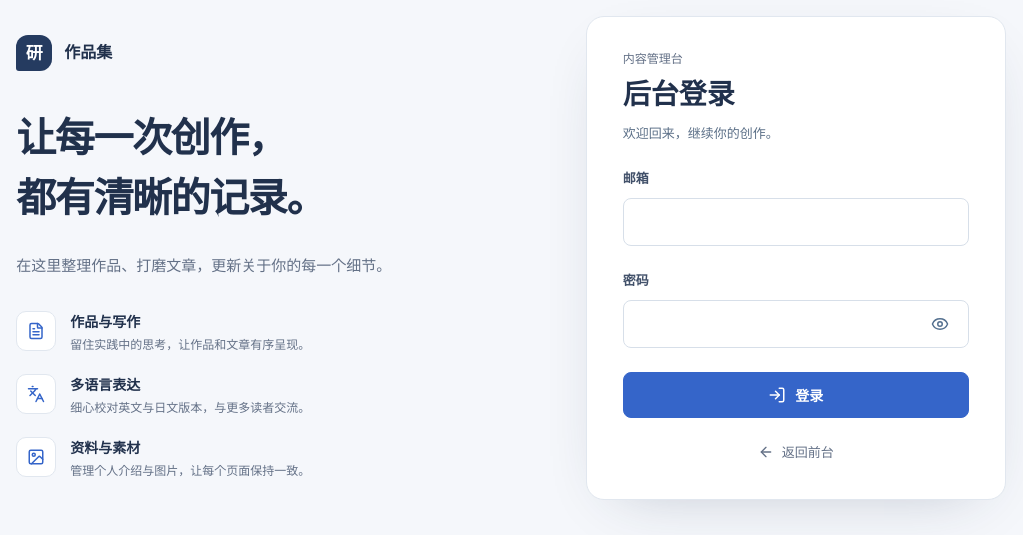
Test: LoginPage › toggles password visibility from the login form
The image size is (1023, 535).
Type "visible-secret" into the password field labelled "密码" at (796, 324), box x1=623 y1=300 x2=969 y2=348
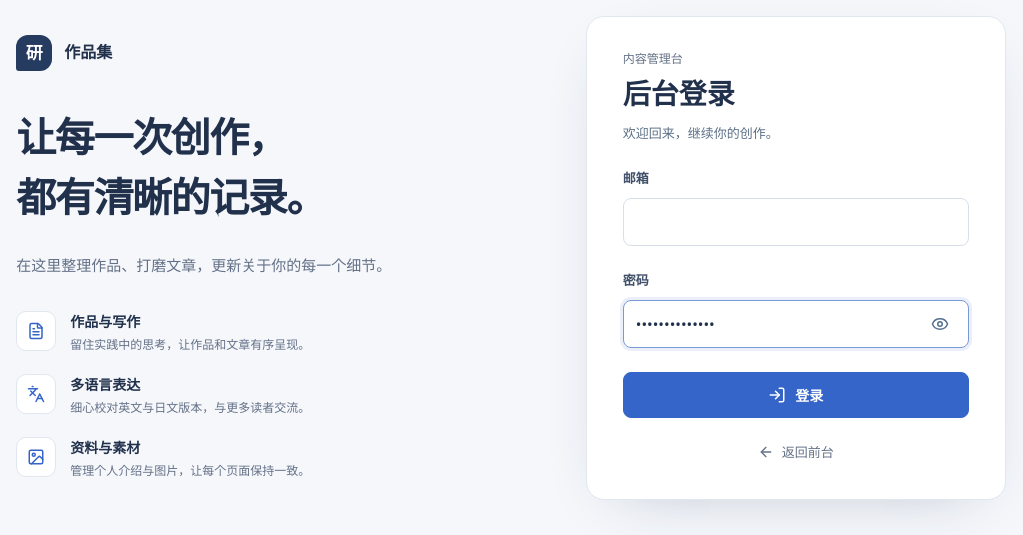
Click the button named "显示密码" at (940, 324), box x1=921 y1=305 x2=959 y2=343
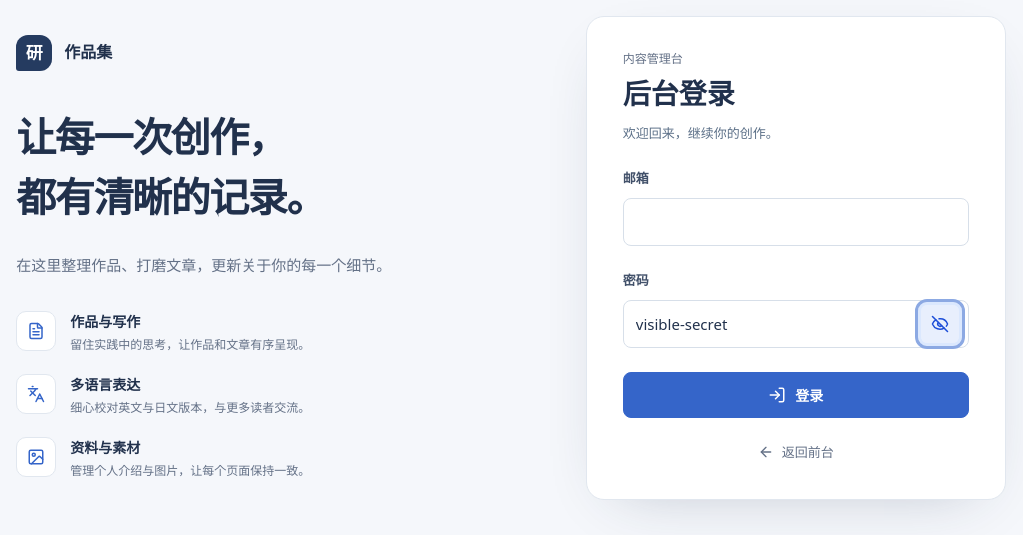
Expected: the field labelled "密码" shows its text, x1=623 y1=300 x2=969 y2=348
Click the button named "隐藏密码" at (940, 324), box x1=921 y1=305 x2=959 y2=343
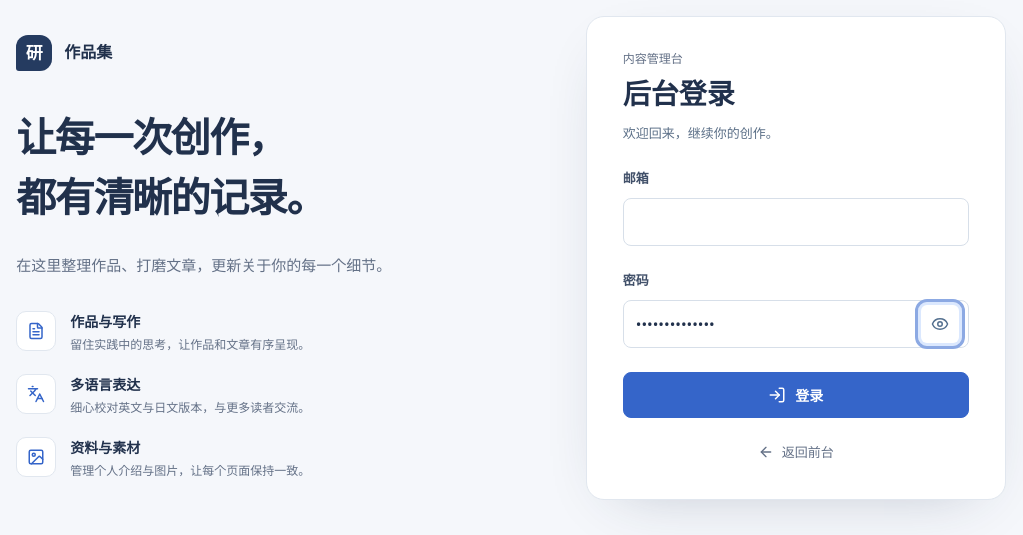
Expected: the password field labelled "密码" hides its text, x1=623 y1=300 x2=969 y2=348
